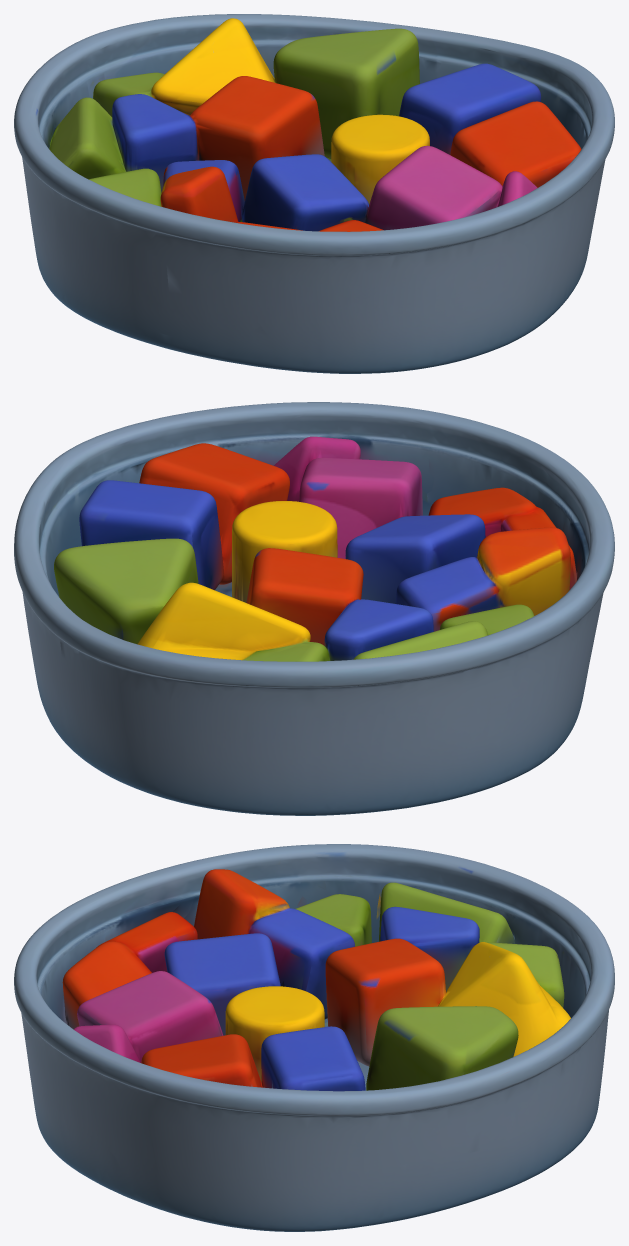
Rendered from pen.glb.
3 views of the same model, one above another, from view 1: azimuth 30°, elevation 25°; view 2: azimuth 150°, elevation 25°; view 3: azimuth 270°, elevation 25° (orthographic). The views are drawn at different scales.
Parts seen in each view (by area): view 1: node_0; view 2: node_0; view 3: node_0.
Boxes of the visible parts, x1,y1,x2,y2 form: node_0: [14, 14, 614, 373]; node_0: [14, 402, 614, 815]; node_0: [14, 844, 614, 1231].
Bounding box in the file's own units: 1.15 × 0.3625 × 1.15.
1 material, 1 textured.
